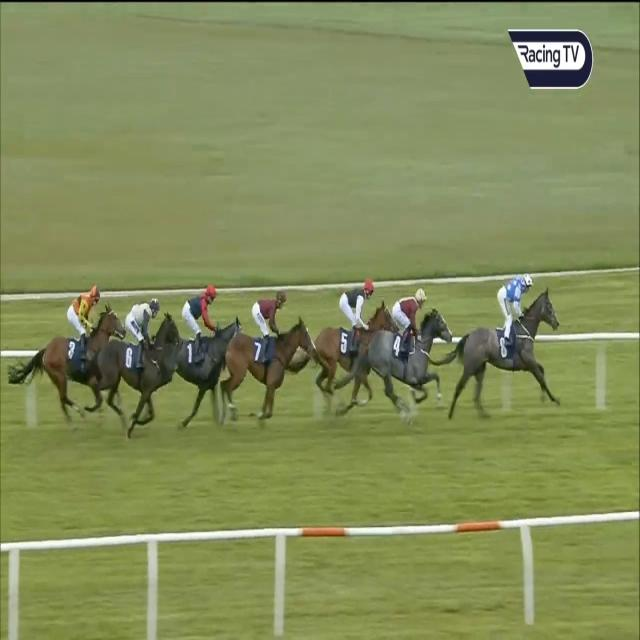horses-racing: (448, 262, 566, 433), (226, 285, 315, 435), (301, 274, 401, 395), (166, 277, 244, 423), (368, 280, 448, 422), (100, 294, 176, 442), (47, 288, 124, 412)
